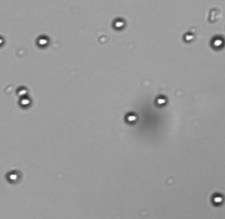Dead Cell: (208, 8, 221, 22)
Living Cell: (6, 170, 21, 183), (211, 35, 224, 49), (123, 112, 139, 123), (35, 35, 49, 47), (210, 193, 223, 205), (112, 19, 126, 30), (18, 96, 32, 107), (182, 31, 195, 42), (15, 86, 28, 97), (155, 95, 167, 106)
